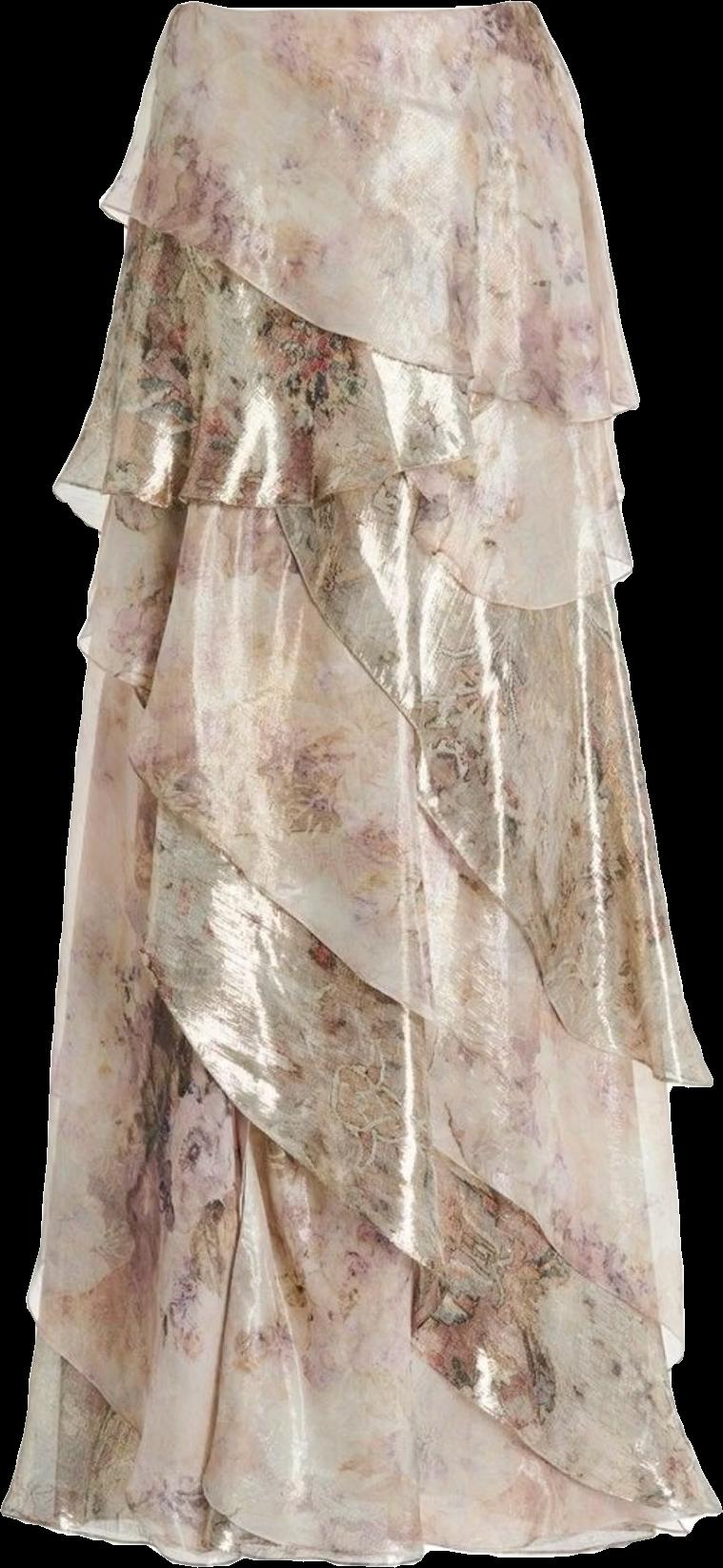Hemline: (65, 812, 722, 1519), (72, 629, 693, 1359), (263, 497, 709, 1095), (20, 1295, 722, 1566), (96, 204, 647, 431), (49, 401, 518, 547), (336, 486, 644, 614), (0, 1496, 251, 1567)
Waistline: (167, 0, 542, 26)
